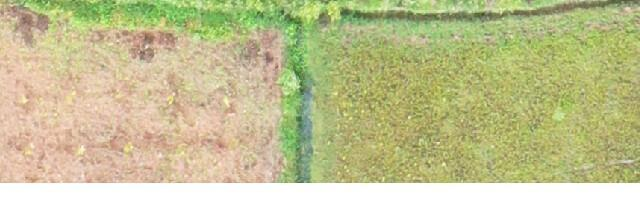tobacco: (14, 0, 307, 187)
